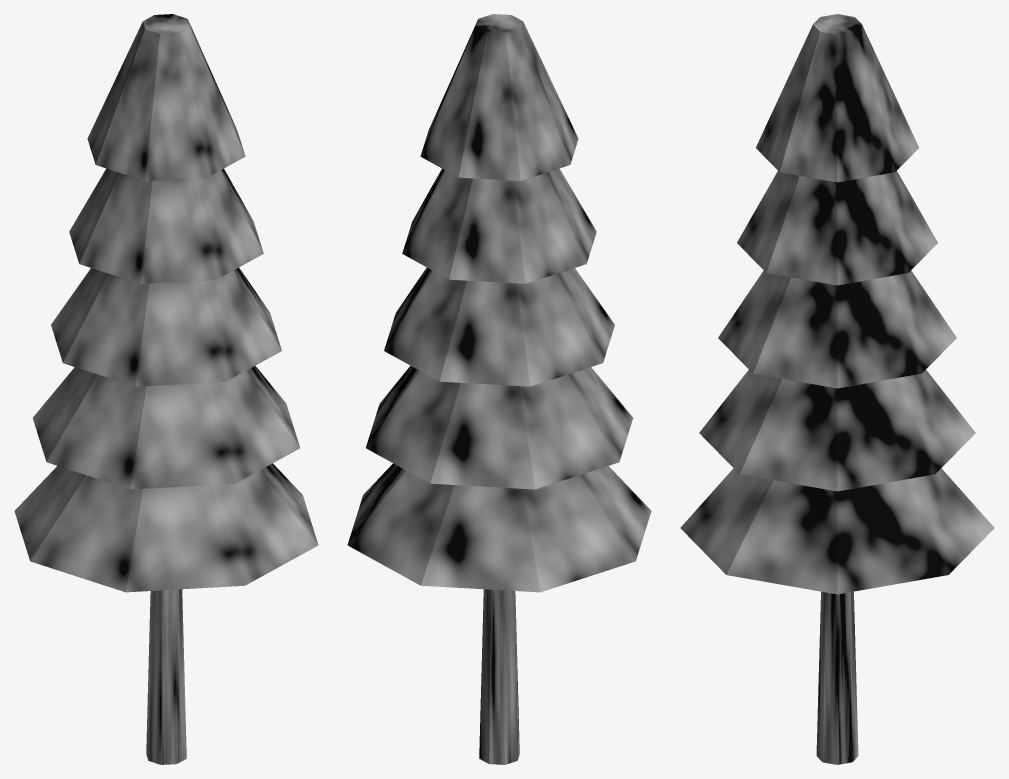
The model's file is tree_pine_small.glb.
The picture shows the model from 3 angles, left to right: view 1: azimuth 30°, elevation 25°; view 2: azimuth 150°, elevation 25°; view 3: azimuth 270°, elevation 25°; orthographic projection.
Parts seen in each view (by area): view 1: tree_pine_small; view 2: tree_pine_small; view 3: tree_pine_small.
Part boxes in pixels (x1,y1,x2,y2): tree_pine_small: (14, 14, 318, 764); tree_pine_small: (347, 14, 651, 764); tree_pine_small: (680, 14, 994, 764).
Bounding box in the file's own units: 2.4 × 6.16 × 2.4.
1 material, 1 textured.
